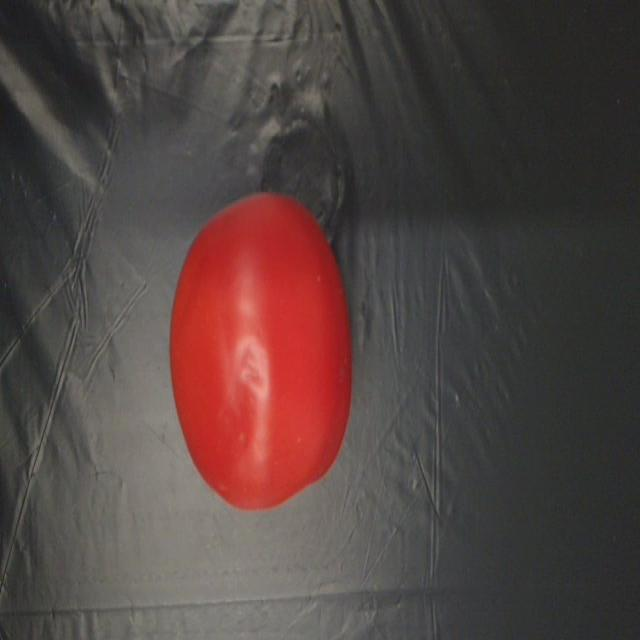kirmizi: (171, 187, 370, 516)
